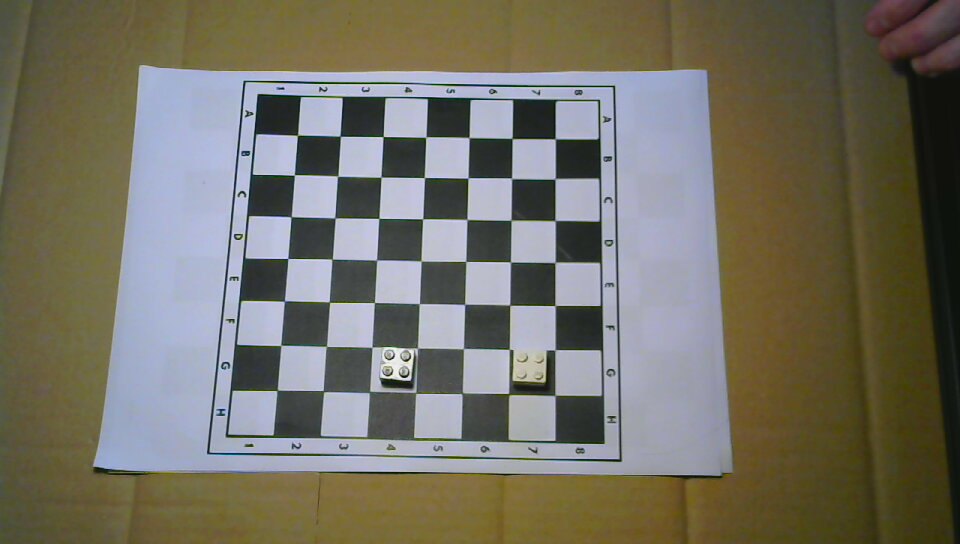bp: (377, 346, 417, 388)
wp: (511, 348, 548, 388)
